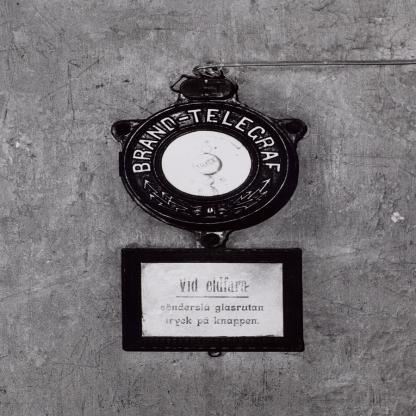Picture-frame: (119, 249, 305, 357)
